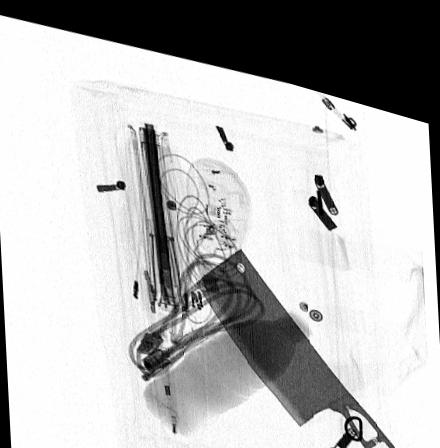Knife: (194, 234, 415, 448)
